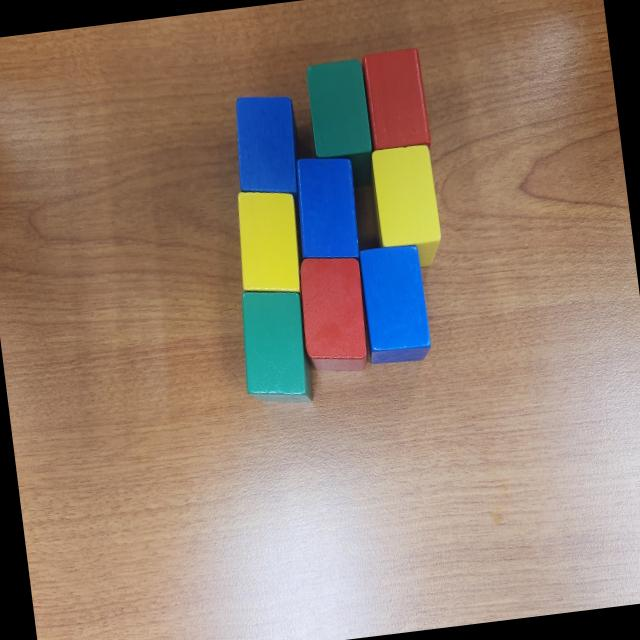blue: (354, 242, 434, 368), (287, 150, 364, 264), (228, 90, 306, 202)
green: (304, 56, 378, 195), (234, 283, 316, 406)
red: (294, 252, 373, 378), (360, 44, 433, 150)
yellow: (368, 142, 446, 272), (232, 185, 306, 302)
